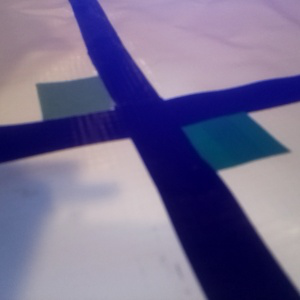bottom_right: (147, 100, 290, 170)
top_left: (35, 76, 145, 139)
